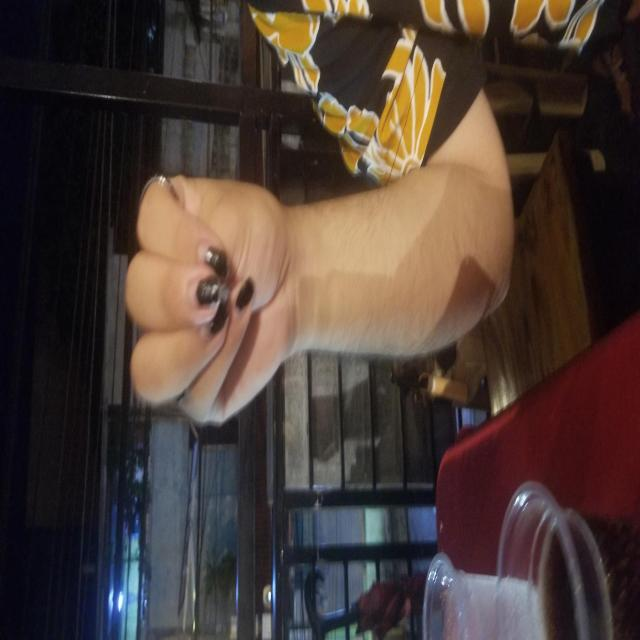M: (88, 128, 354, 474)
